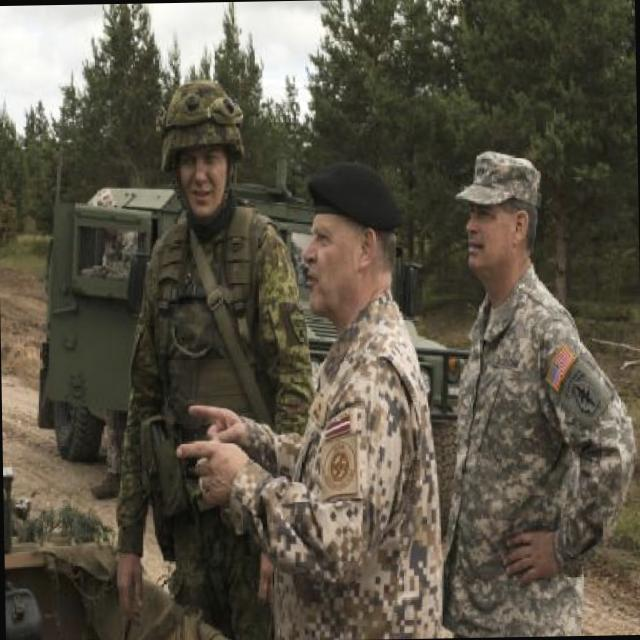Person: (167, 159, 444, 640), (100, 78, 317, 640), (434, 148, 636, 636)
